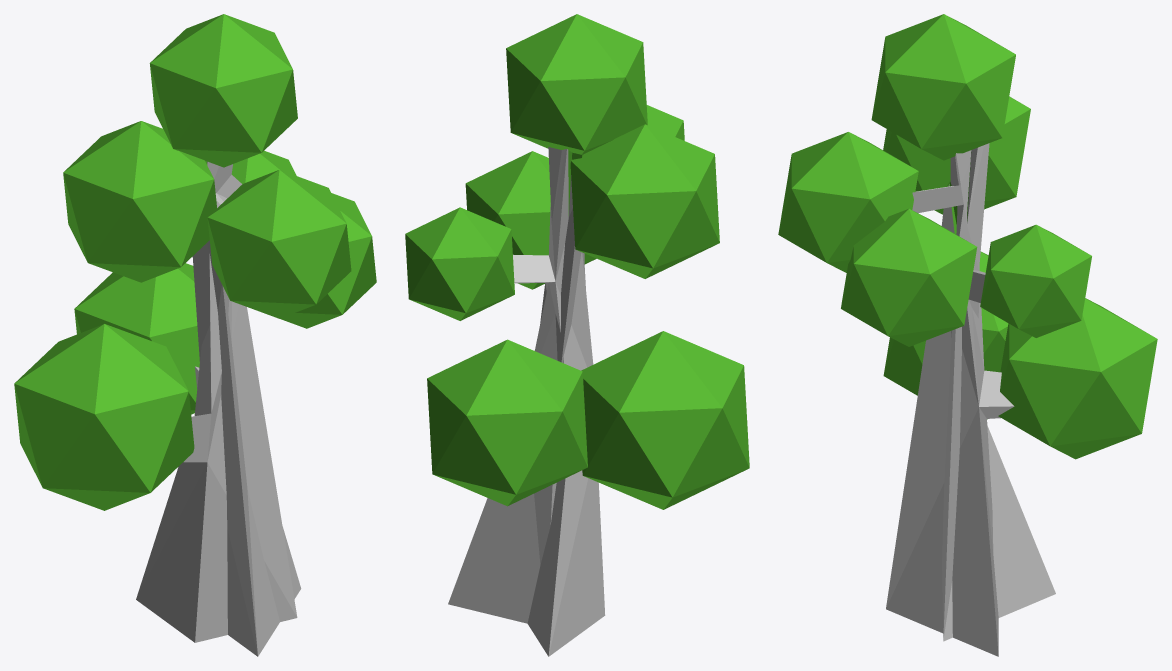
The model's file is tradLess1.dae.
The picture shows the model from 3 angles, left to right: view 1: azimuth 30°, elevation 25°; view 2: azimuth 150°, elevation 25°; view 3: azimuth 270°, elevation 25°; orthographic projection. The views are drawn at different scales.
Visible parts, largest first — view 1: tradLessMB; view 2: tradLessMB; view 3: tradLessMB.
Boxes of the visible parts, x1,y1,x2,y2 form: tradLessMB: (14,14,376,656); tradLessMB: (405,14,749,656); tradLessMB: (778,14,1157,656).
Bounding box in the file's own units: 30 × 33.91 × 58.53.
